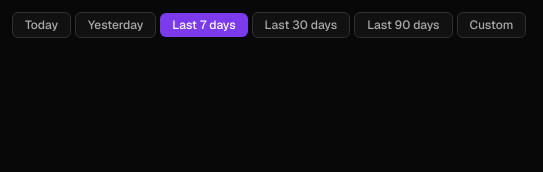
Test case: DateRangePicker › collapses custom inputs when a preset is clicked after custom
This screenshot has width=543, height=172.
// Open custom
Click the button with test id "preset-custom" at (491, 25), box [456, 12, 526, 38]
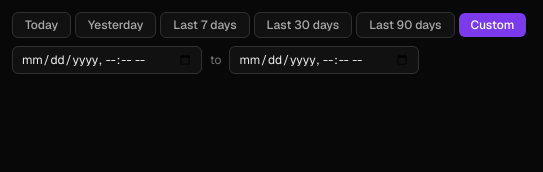
Check: the element with test id "custom-inputs" is shown, box [12, 46, 419, 74]
// Click a preset
Click the button with test id "preset-last30days" at (303, 25), box [254, 12, 352, 38]
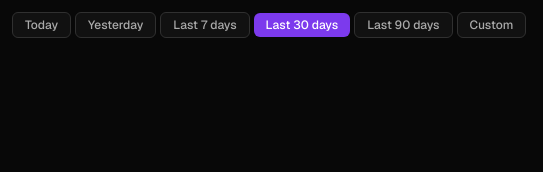
Check: the element with test id "custom-inputs" is gone
